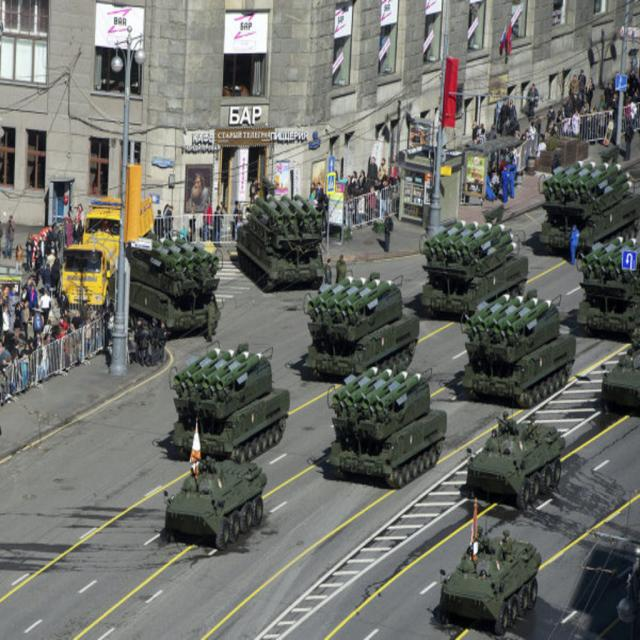tank: (322, 362, 447, 490), (168, 338, 291, 460), (438, 514, 542, 635), (301, 272, 420, 375), (422, 216, 529, 319), (126, 224, 222, 336), (163, 454, 268, 552), (467, 408, 568, 509), (234, 192, 330, 293), (540, 156, 638, 250), (576, 219, 638, 339), (599, 326, 639, 411)
